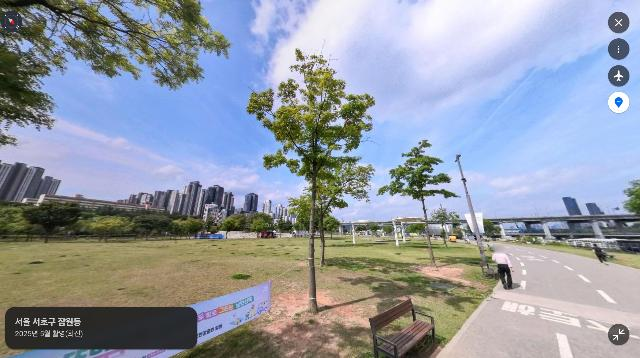other: (246, 39, 380, 315), (0, 0, 233, 148), (376, 140, 459, 270), (315, 162, 375, 267), (429, 204, 458, 250)
